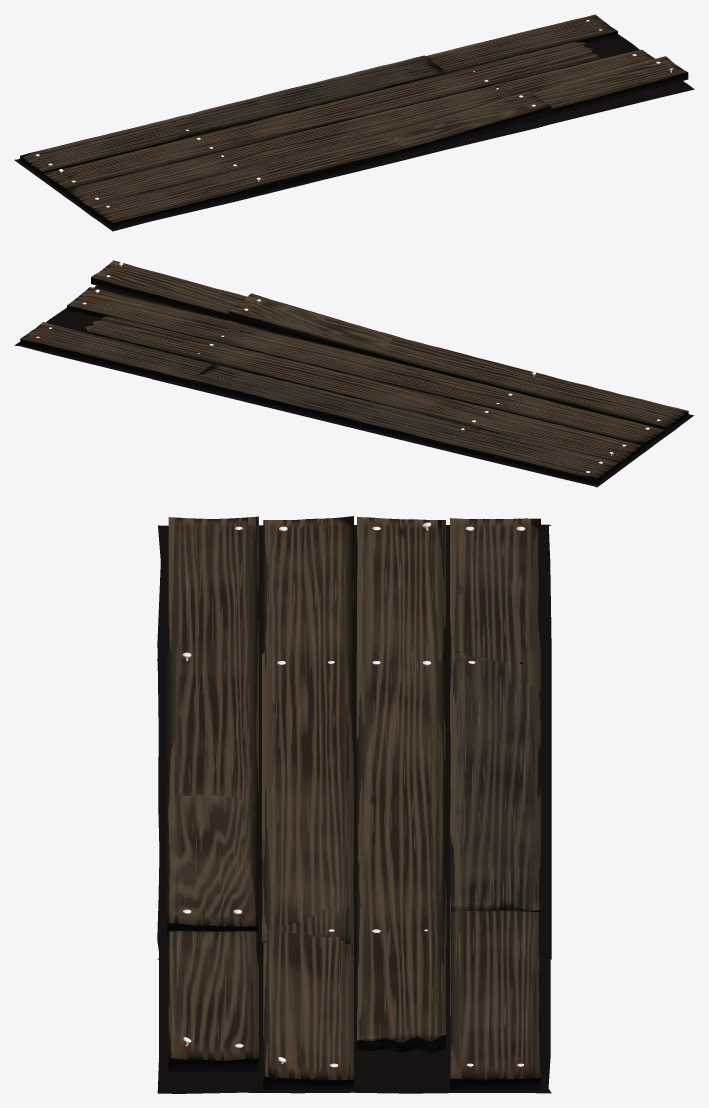
File: boards.glb
3 renders of one model, top to bottom at view 1: azimuth 30°, elevation 25°; view 2: azimuth 150°, elevation 25°; view 3: azimuth 270°, elevation 25°, orthographic. The views are drawn at different scales.
Visible parts, largest first — view 1: BoardLong, BoardShort, BoardLongGap, BoardShortGap; view 2: BoardLong, BoardShort, BoardLongGap, BoardShortGap; view 3: BoardLong, BoardShort, BoardLongGap, BoardShortGap.
Boxes of the visible parts, x1,y1,x2,y2 form: BoardLong: (20,14,688,228); BoardShort: (177,55,551,195); BoardLongGap: (14,34,694,231); BoardShortGap: (248,118,552,197); BoardLong: (20,260,688,484); BoardShort: (191,293,482,450); BoardLongGap: (14,285,694,487); BoardShortGap: (152,377,460,453); BoardLong: (168,516,540,1089); BoardShort: (167,650,540,955); BoardLongGap: (157,524,551,1093); BoardShortGap: (157,659,551,959).
Bounding box in the file's own units: 2.1 × 0.0718 × 0.6149.
Materials: 4 (2 with a texture image).
